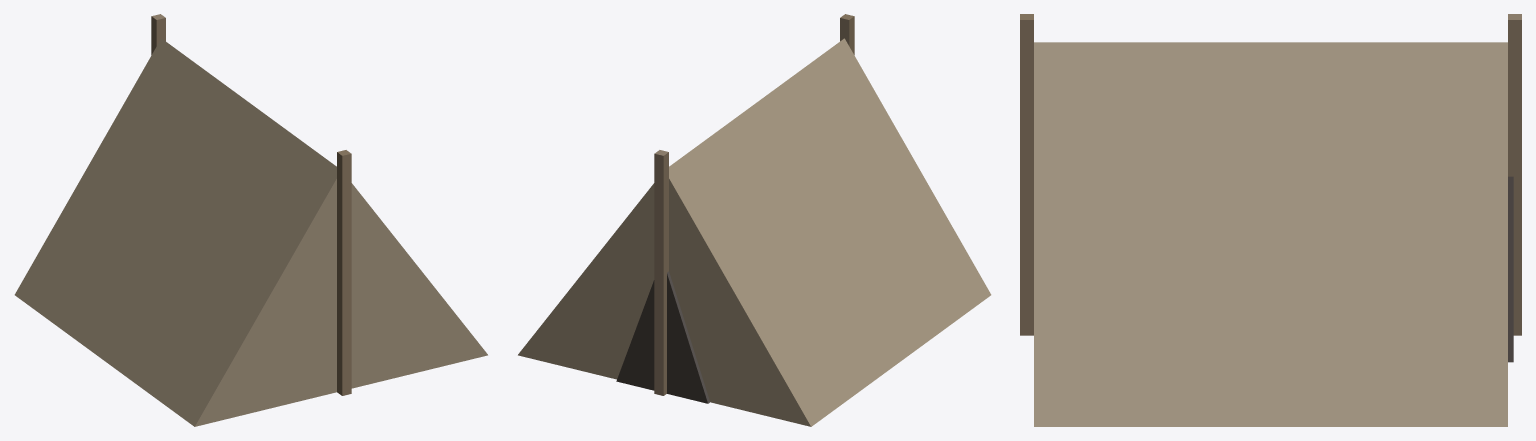
The model's file is tent.glb.
The picture shows the model from 3 angles, left to right: view 1: azimuth 30°, elevation 25°; view 2: azimuth 150°, elevation 25°; view 3: azimuth 270°, elevation 25°; orthographic projection. The views are drawn at different scales.
Visible parts, largest first — view 1: tent2; view 2: tent2; view 3: tent2.
Part boxes in pixels (bbox=[...]): tent2: bbox=[14, 14, 487, 426]; tent2: bbox=[518, 14, 991, 426]; tent2: bbox=[1020, 14, 1521, 426].
Bounding box in the file's own units: 3.2 × 2.5 × 3.6.
